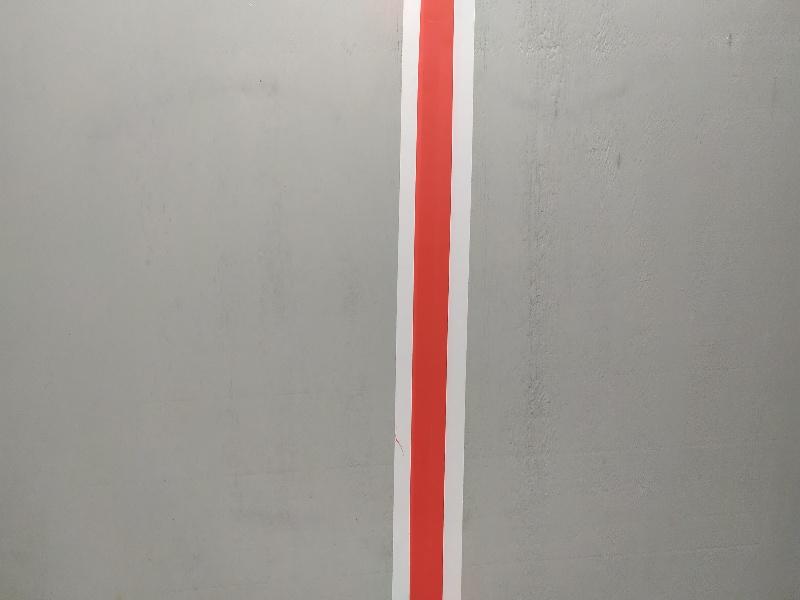faixa: (400, 4, 468, 598)
